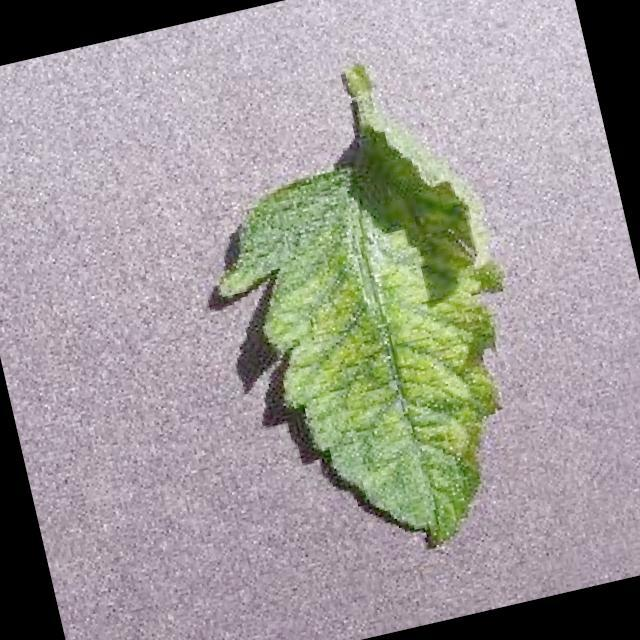Tomato mosaic virus leaf: (190, 100, 569, 588)
